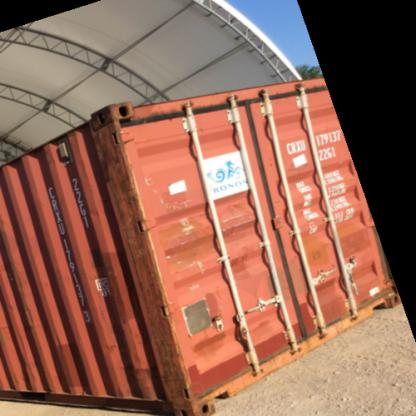Damage: (99, 119, 158, 255), (140, 276, 192, 407), (14, 273, 37, 331), (105, 326, 119, 359)
